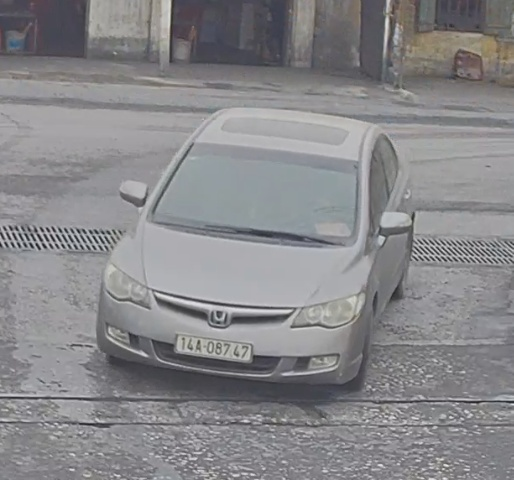vehicle plate: (176, 330, 259, 366)
